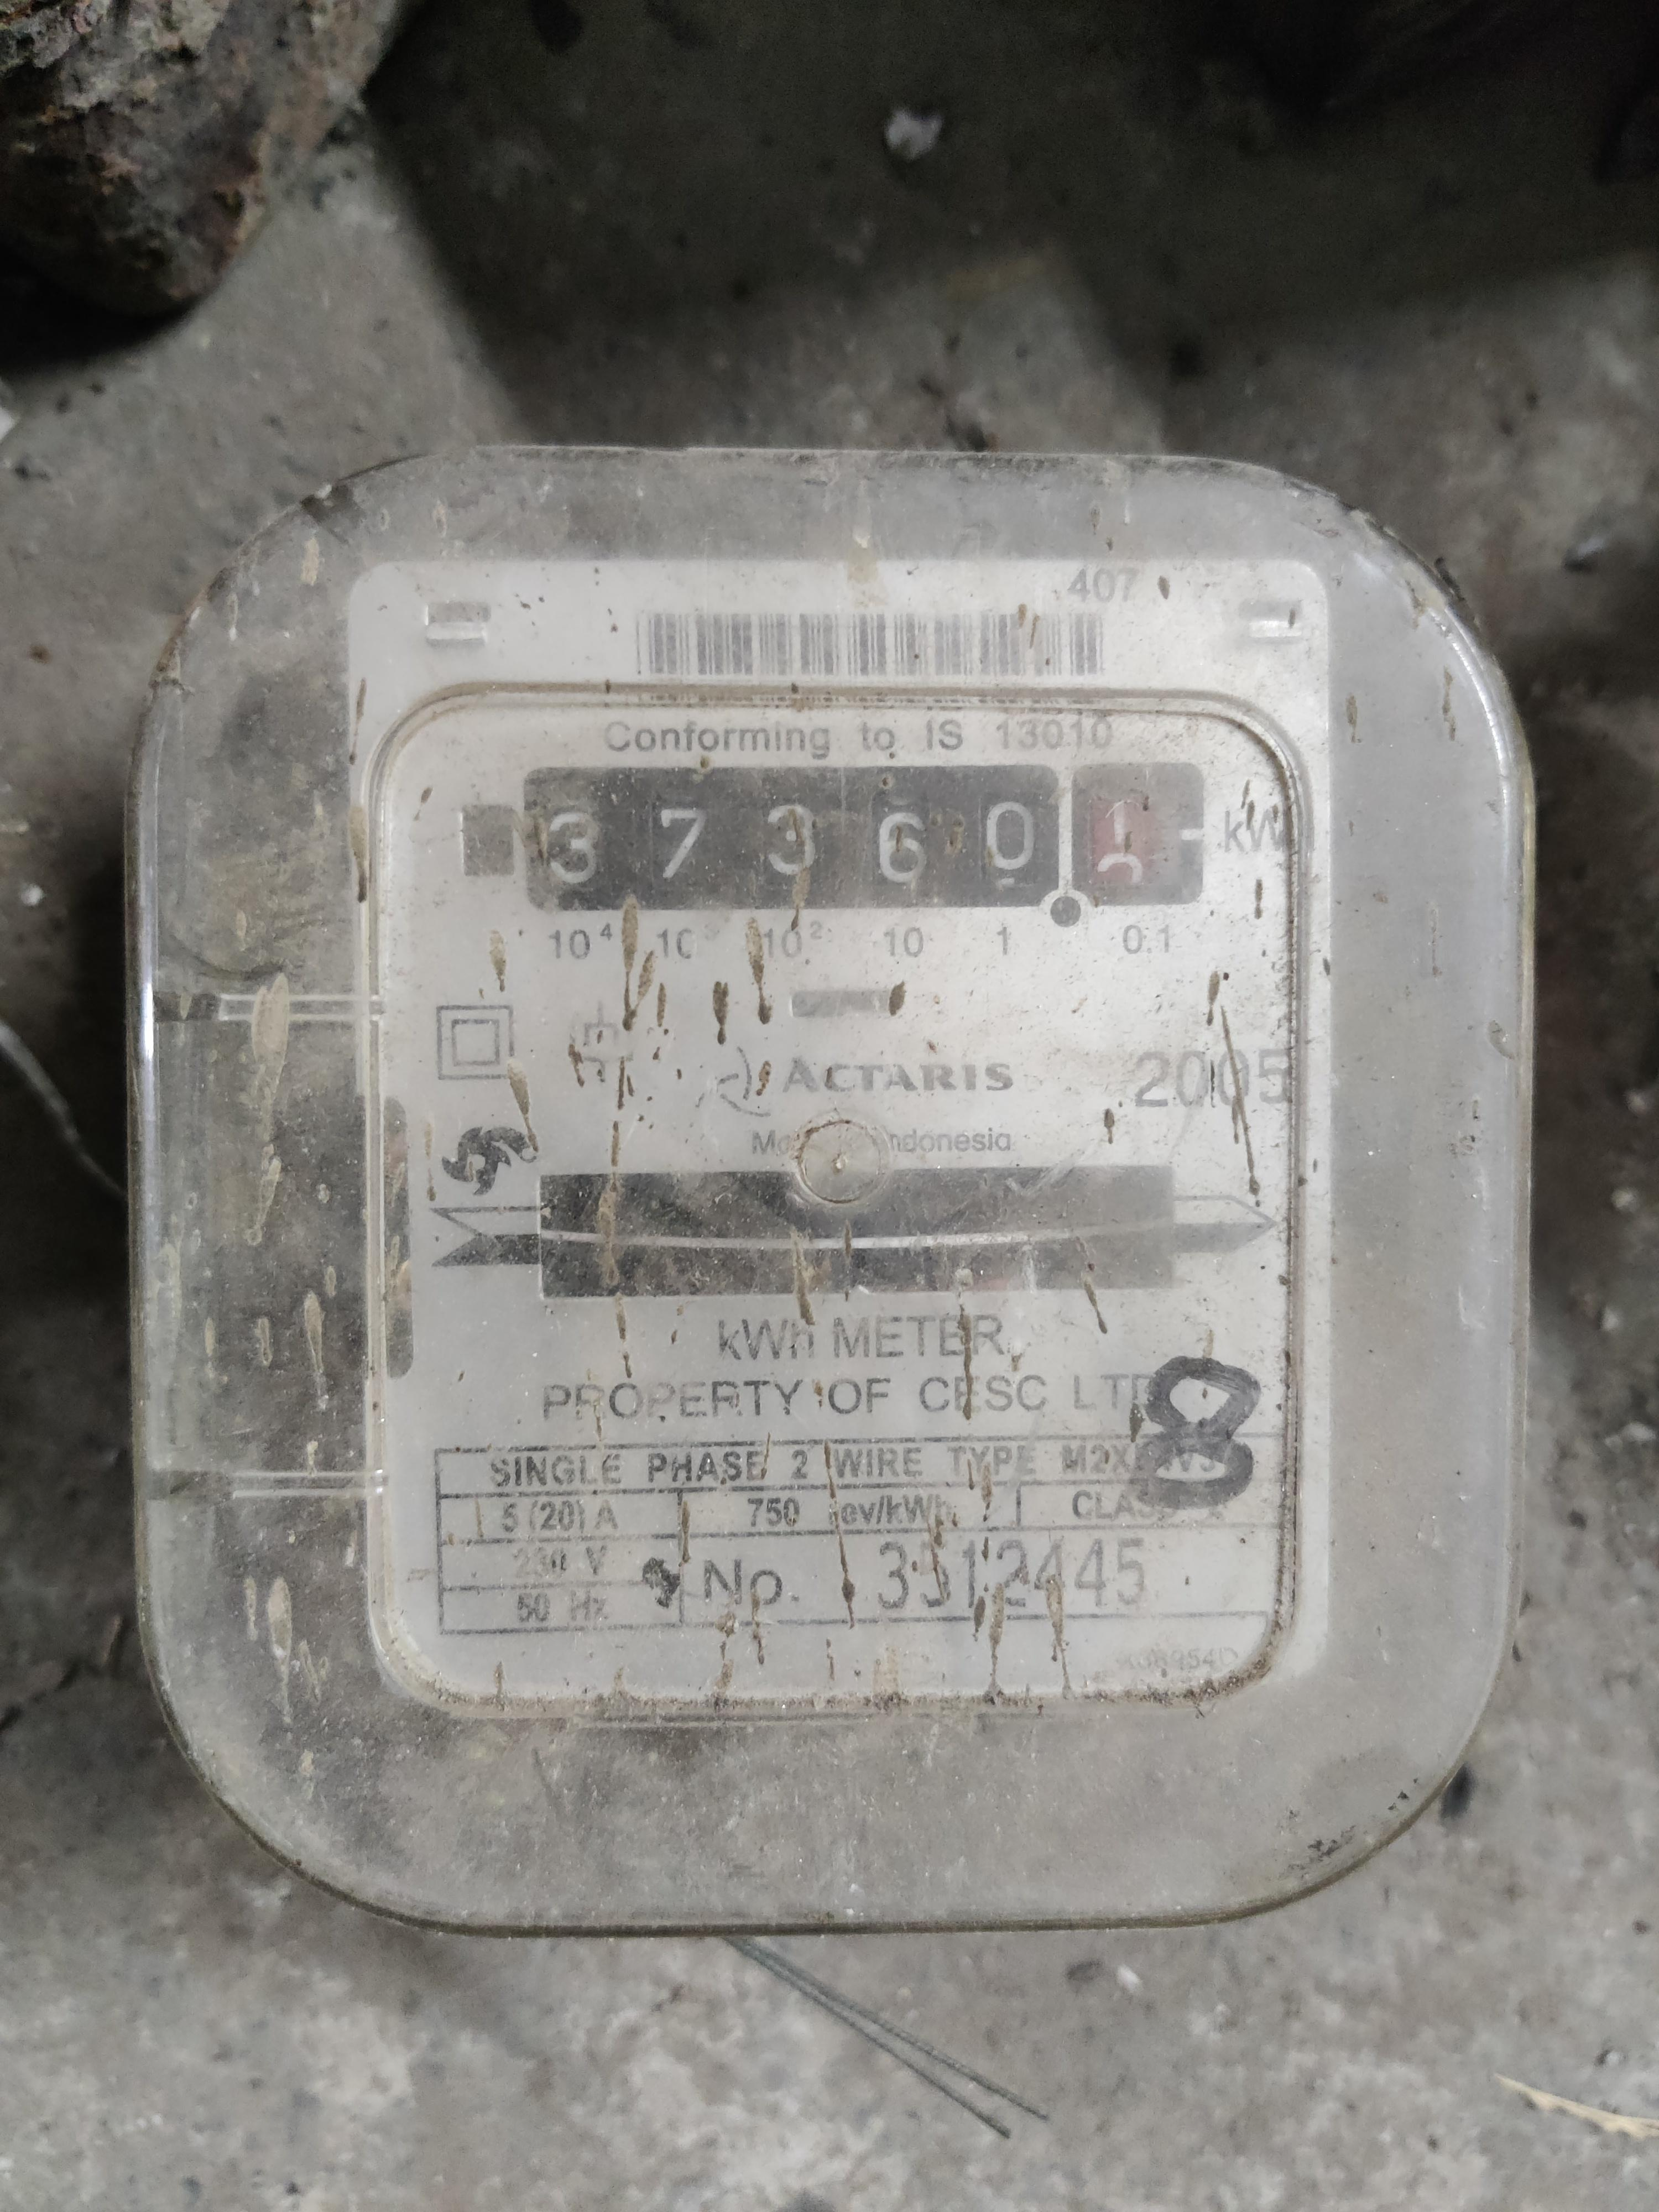meter_readings: (525, 782, 1168, 905)
serial_number: (853, 1540, 1170, 1615)
